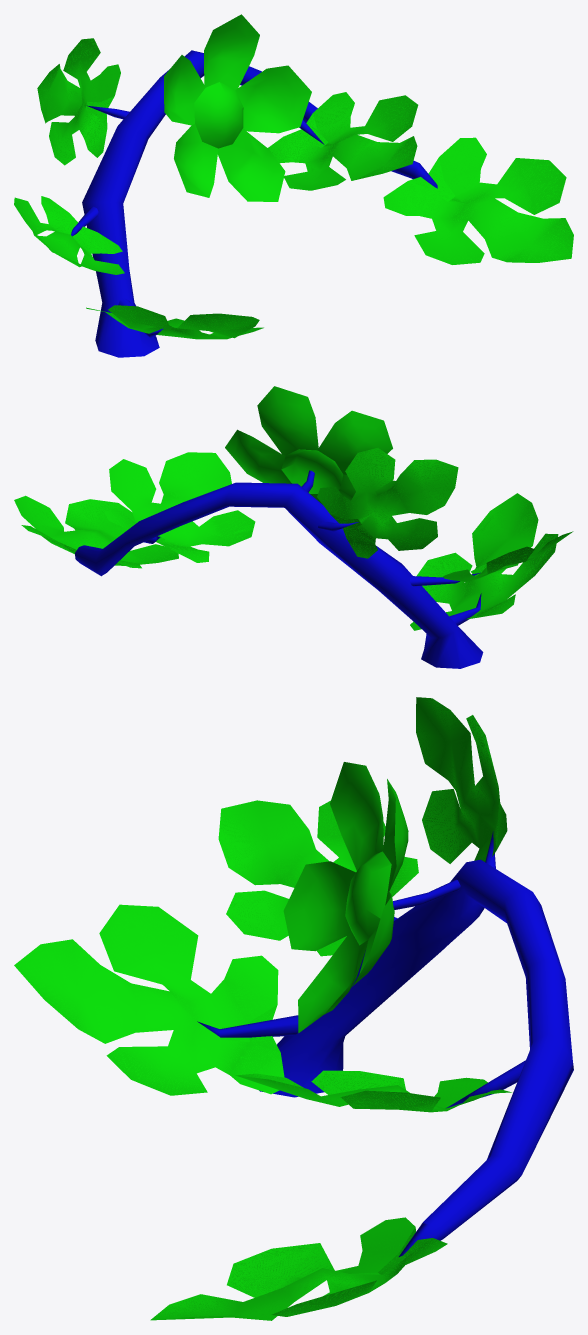
File: WaterMelon_3.fbx
3 renders of one model, top to bottom at view 1: azimuth 30°, elevation 25°; view 2: azimuth 150°, elevation 25°; view 3: azimuth 270°, elevation 25°, orthographic. The views are drawn at different scales.
Parts seen in each view (by area): view 1: BSTC_WaterMelon_3; view 2: BSTC_WaterMelon_3; view 3: BSTC_WaterMelon_3.
Part boxes in pixels (bbox=[...]): BSTC_WaterMelon_3: bbox=[14, 14, 573, 357]; BSTC_WaterMelon_3: bbox=[14, 386, 573, 668]; BSTC_WaterMelon_3: bbox=[14, 697, 573, 1320].
Bounding box in the file's own units: 73.72 × 34.89 × 45.34.
